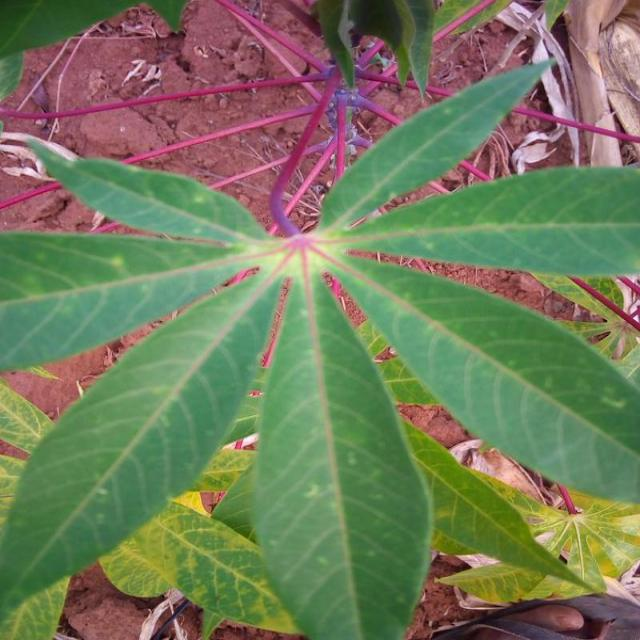cassava leaf: (0, 38, 638, 636), (250, 248, 433, 638)
